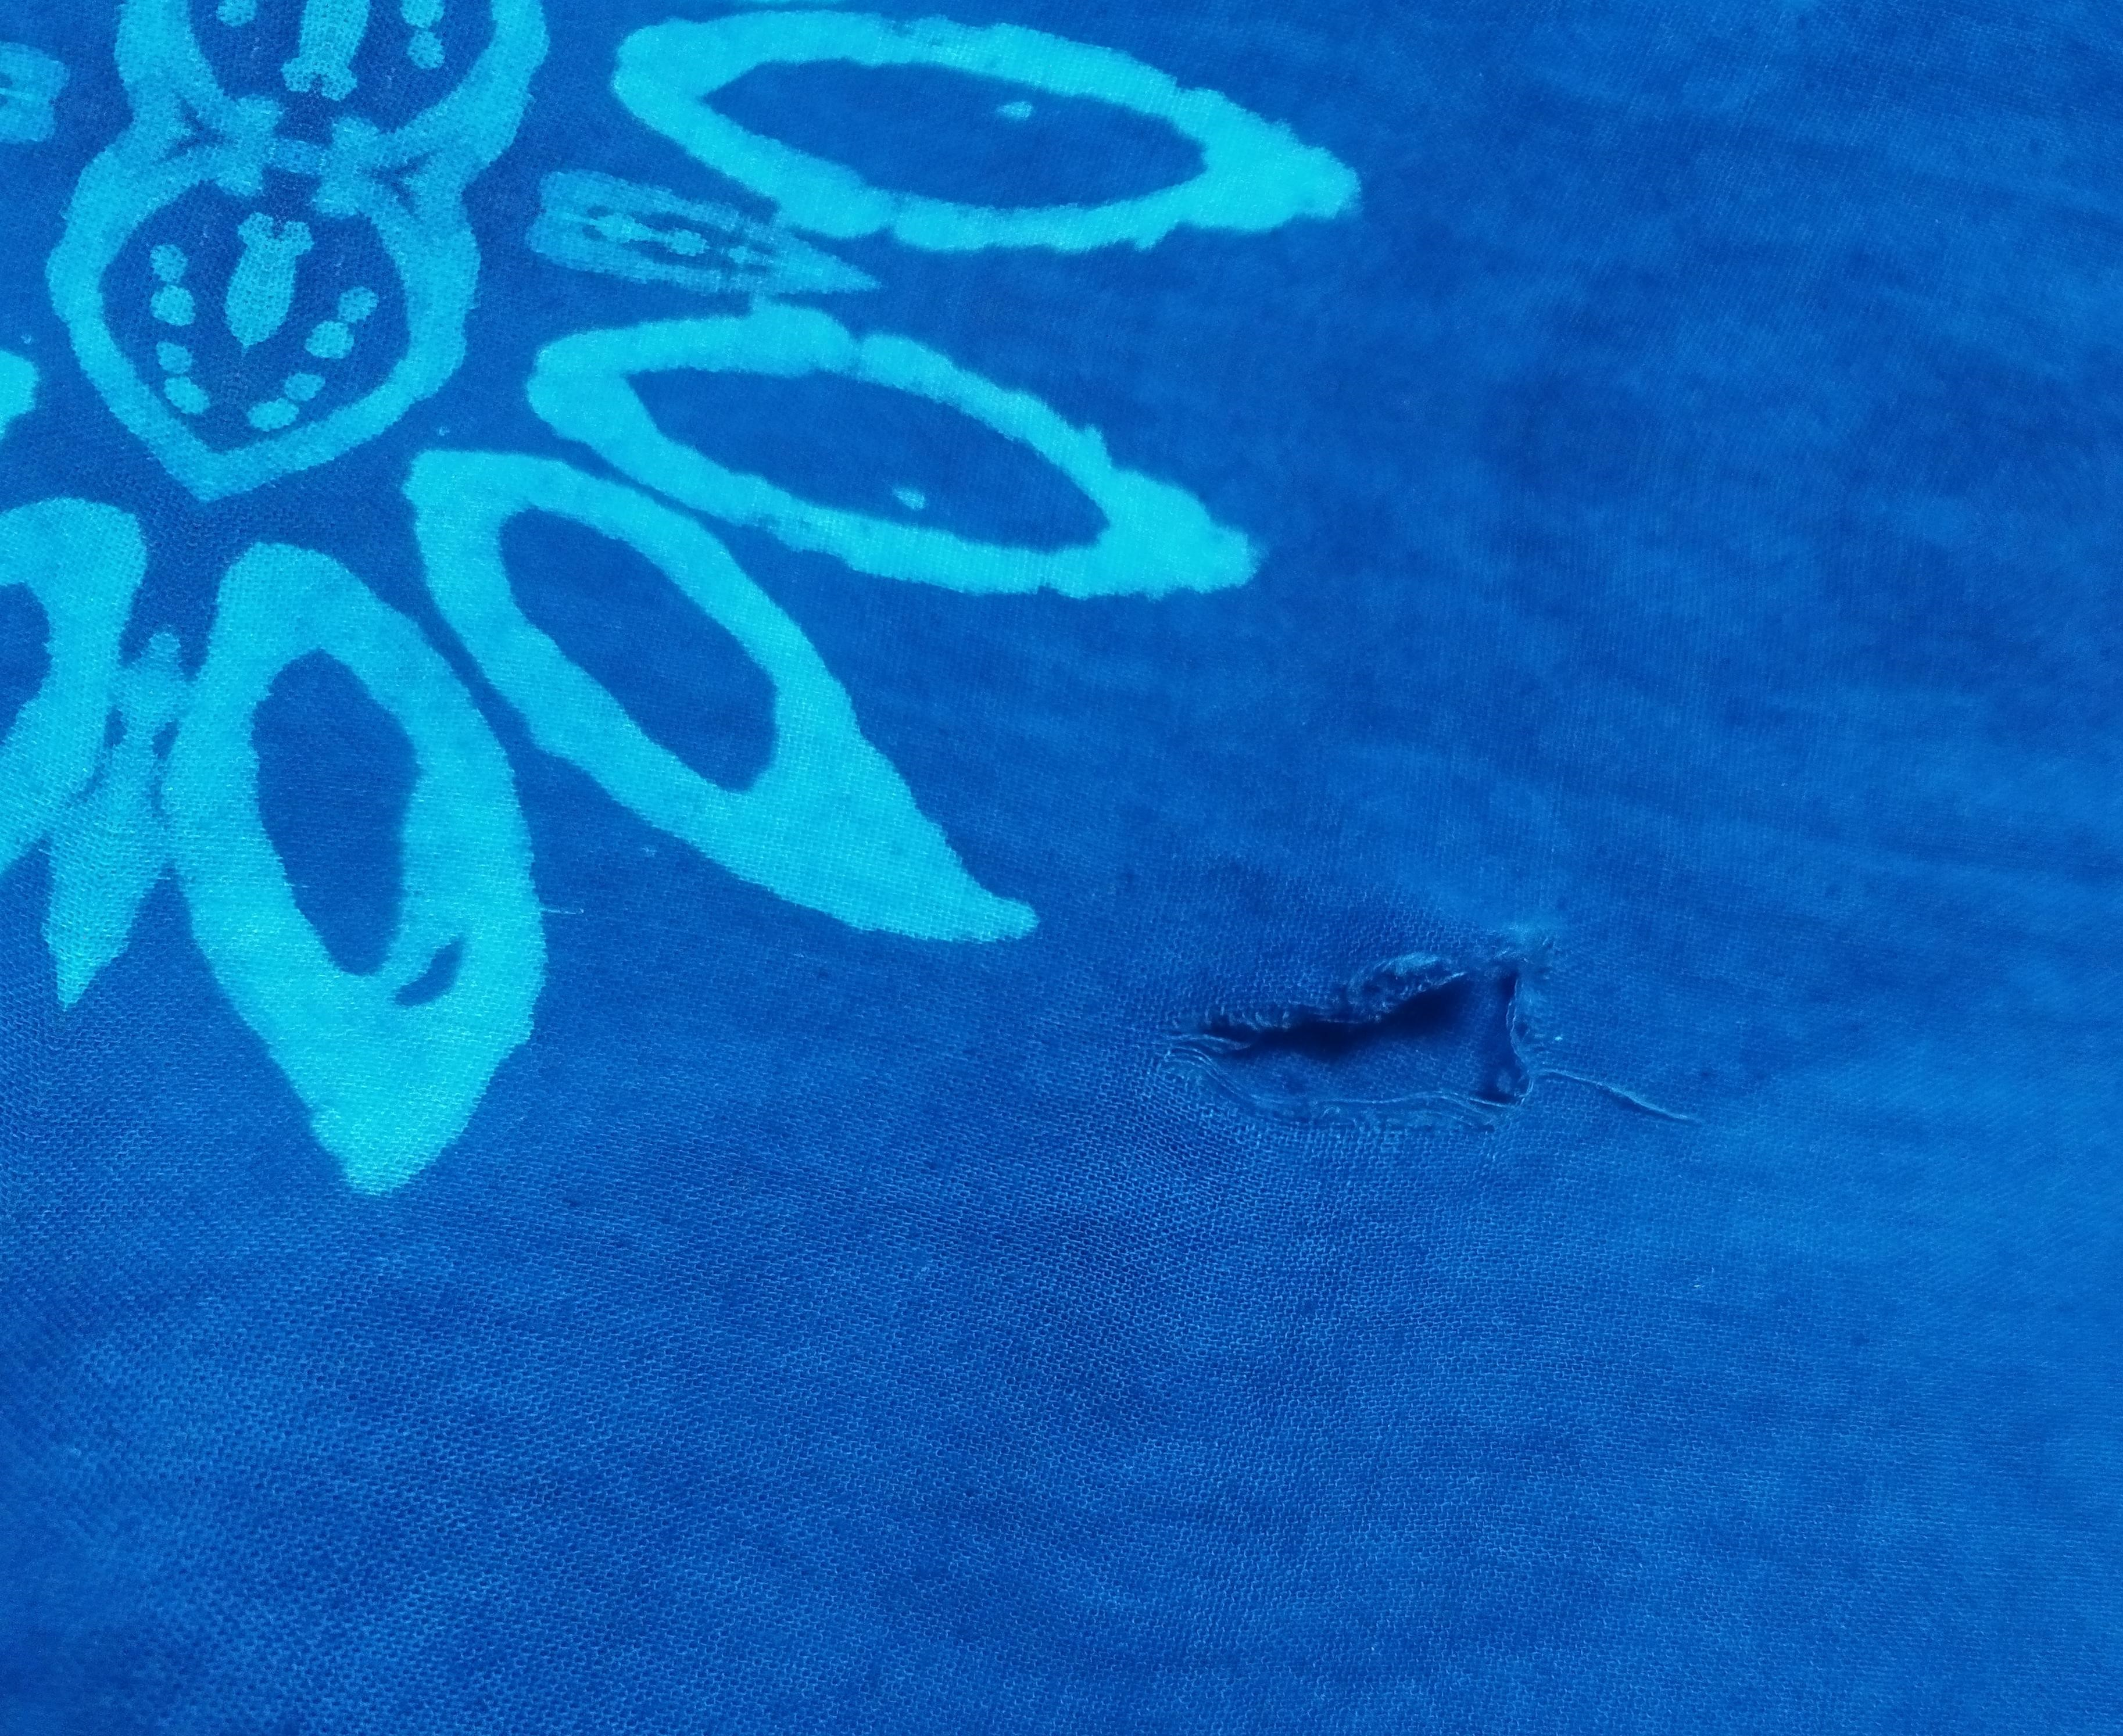hole: (1153, 916, 1612, 1154)
